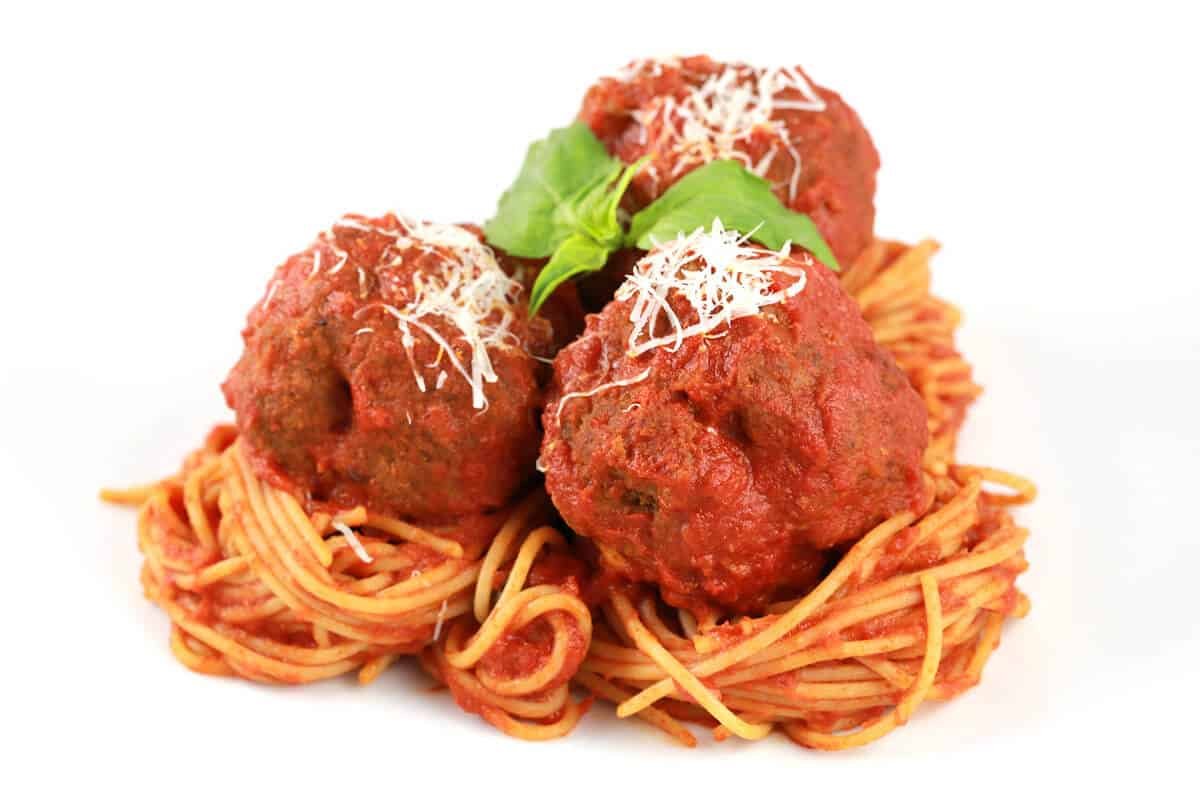meatballs: (511, 236, 911, 554), (520, 63, 887, 257), (254, 233, 514, 506)
plain spaghetti: (299, 569, 908, 718)
